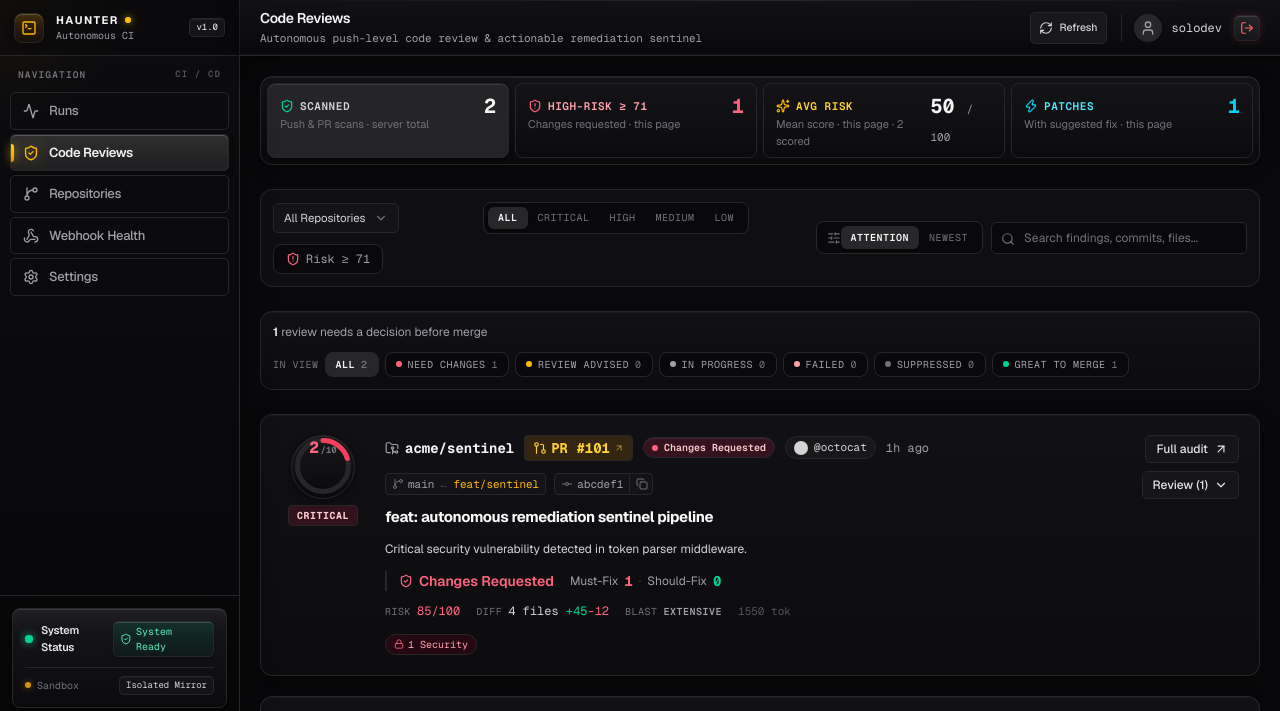
Test: ReviewsPage (app/reviews/page.tsx) › stage fix persists locally and never touches the clipboard (distinct from copy)
What coordinates should you click on to do the following:
click the button "Review (1)"
I would click on:
 (1190, 485)
Its box is top-left (1142, 471), bottom-right (1239, 499).
(page scrolled)
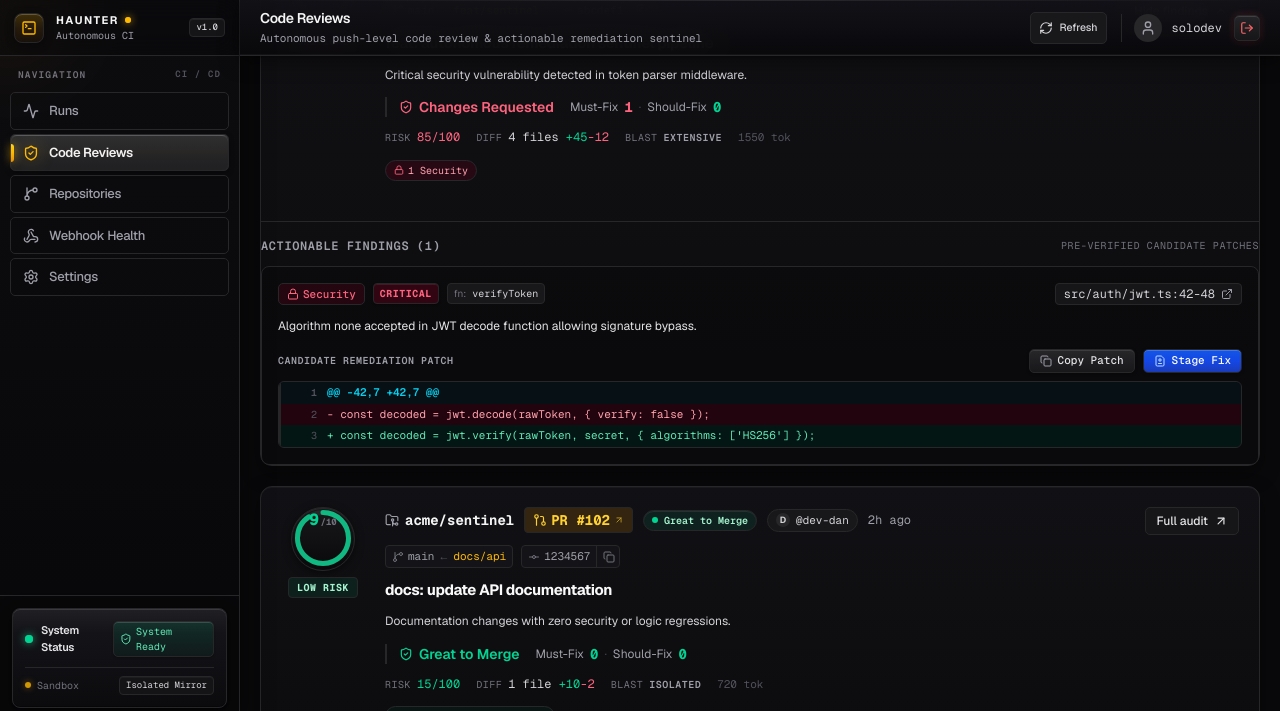
// Stage: persists locally, does NOT copy
What coordinates should you click on to do the following:
click the button "Stage Fix"
I would click on:
 (1192, 361)
Its box is top-left (1143, 349), bottom-right (1242, 373).
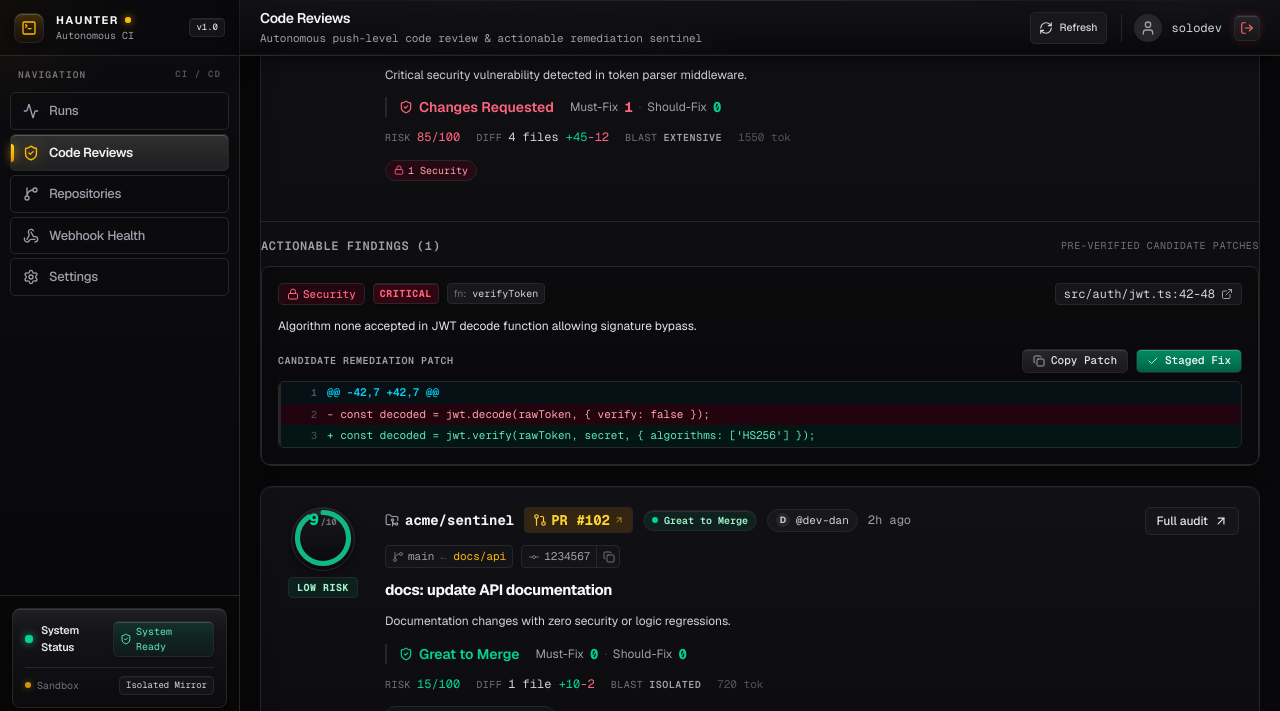
Check: the text "Staged Fix" is shown, box top-left (1165, 352), bottom-right (1231, 369)
// Copy: writes clipboard, does NOT stage anything new
What coordinates should you click on to do the following:
click the button "Copy Patch"
I would click on:
 (1075, 361)
Its box is top-left (1022, 349), bottom-right (1128, 373).
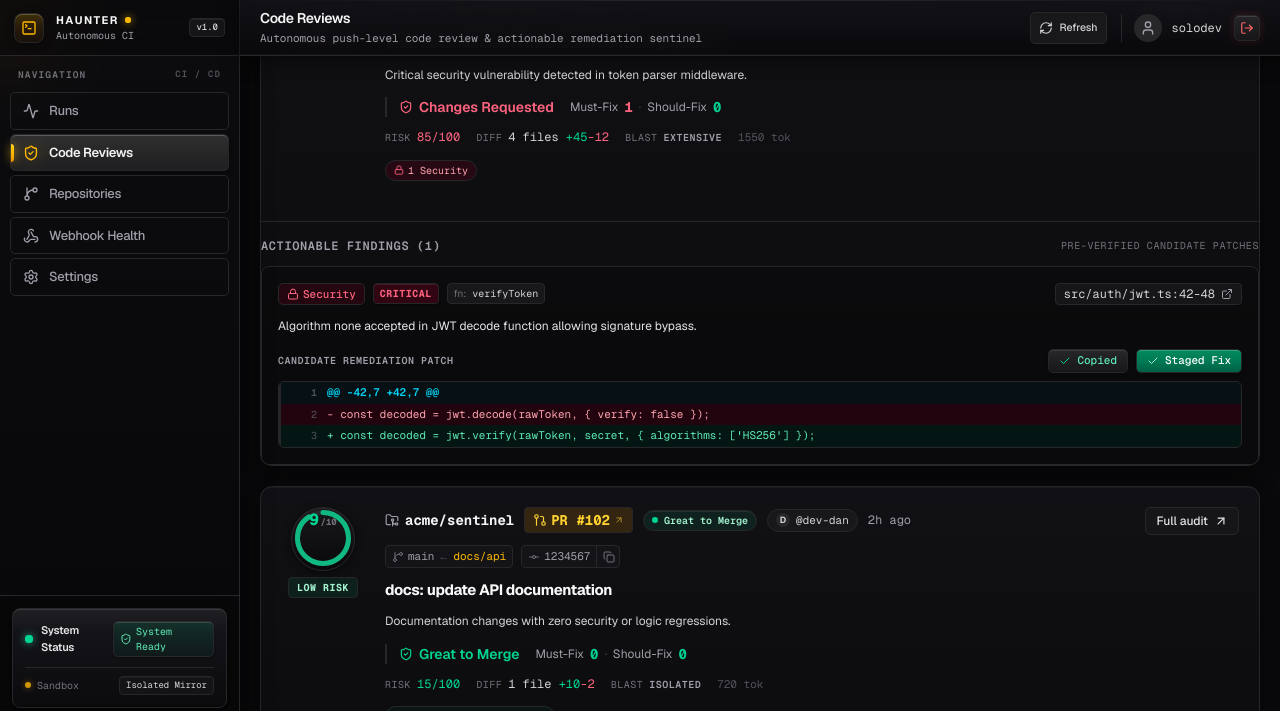
Check: the text "Copied" is shown, box top-left (1077, 352), bottom-right (1117, 369)
// Toggle off: unstages and removes the persisted entry
What coordinates should you click on to do the following:
click the button "Staged Fix"
I would click on:
 (1189, 361)
Its box is top-left (1136, 349), bottom-right (1242, 373).
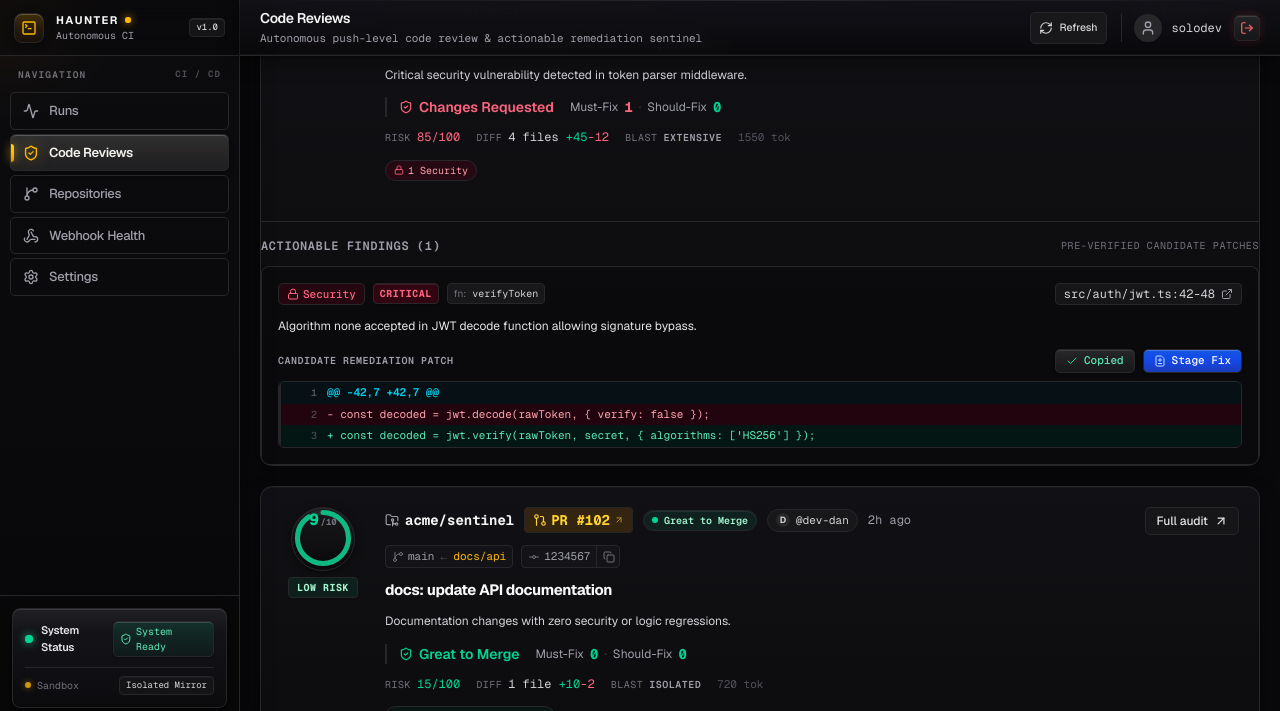
Check: the text "Stage Fix" is shown, box top-left (1172, 352), bottom-right (1231, 369)
